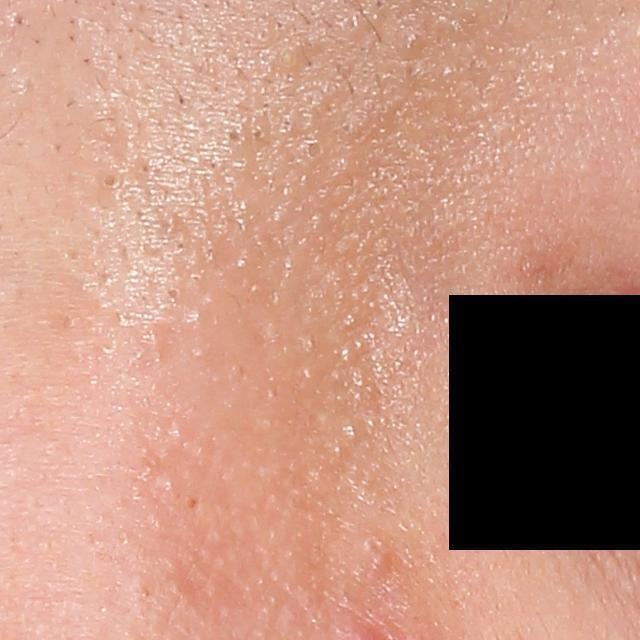comedo: (276, 44, 300, 70), (304, 136, 325, 161), (101, 171, 121, 190)
